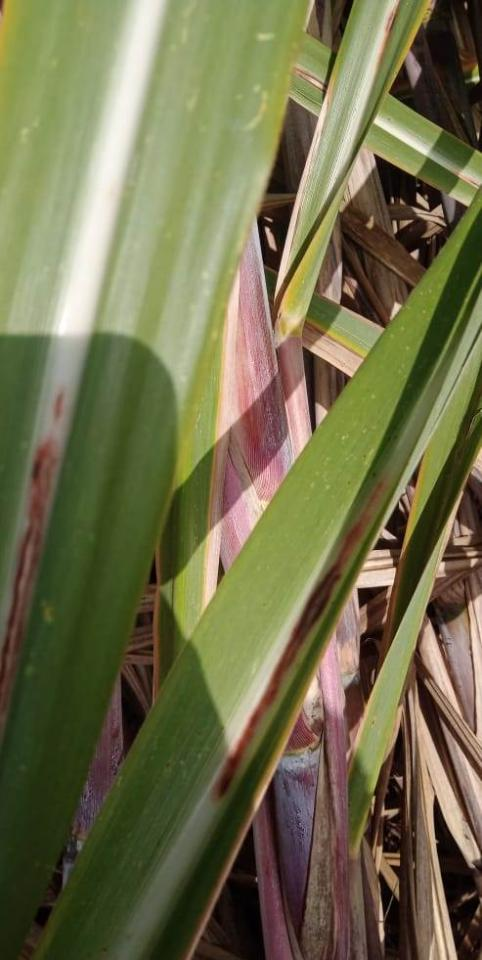RedRot: (210, 476, 390, 801), (0, 385, 64, 732)
